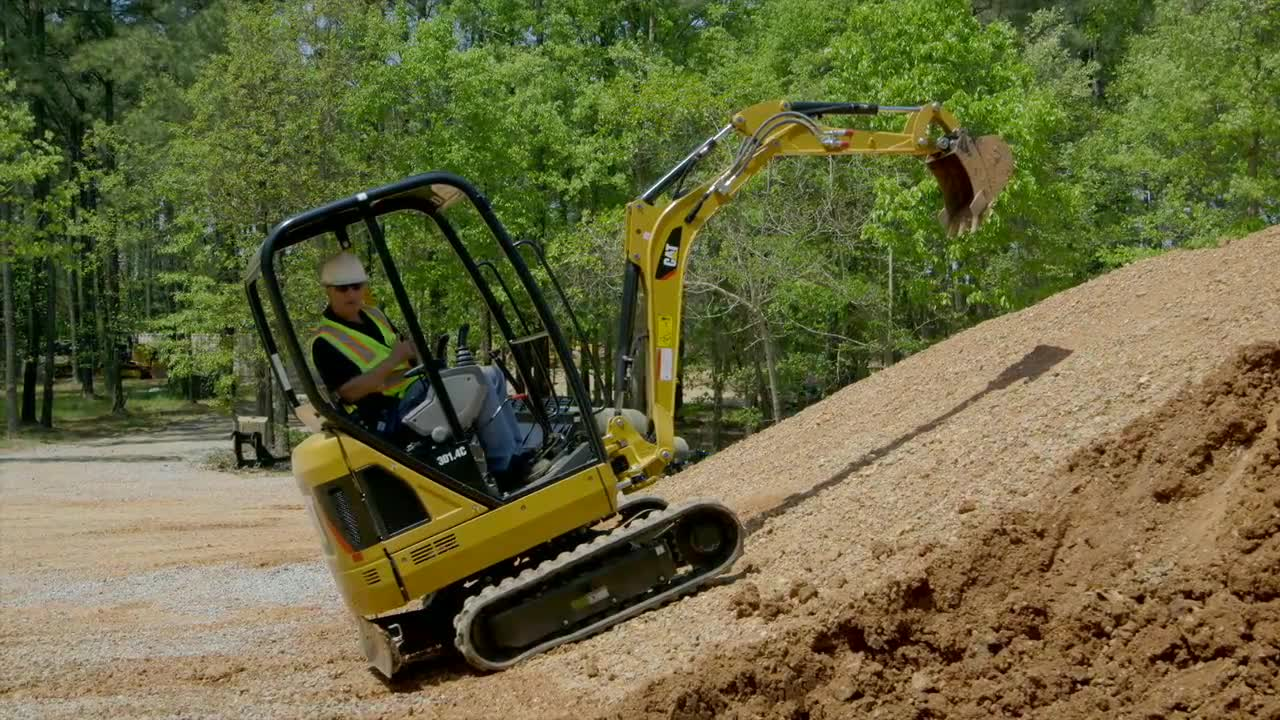attachment-bucket: (925, 113, 1017, 232)
cabin: (244, 176, 623, 623)
forearm: (734, 95, 933, 158)
upperarm: (640, 130, 783, 446)
wheelbase: (426, 495, 755, 674)
